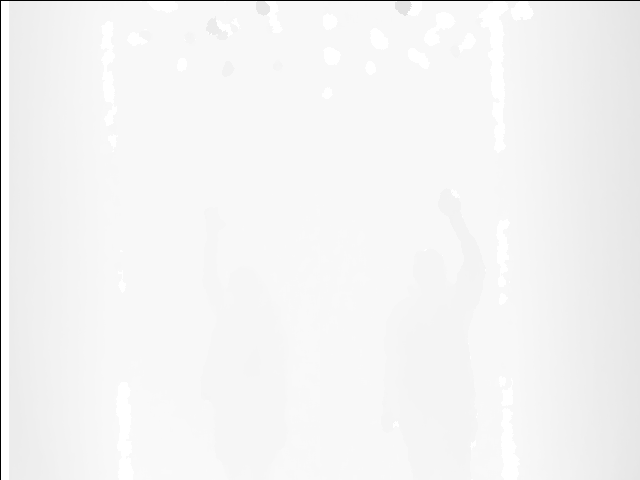hand: (436, 185, 465, 221), (203, 200, 227, 237)
